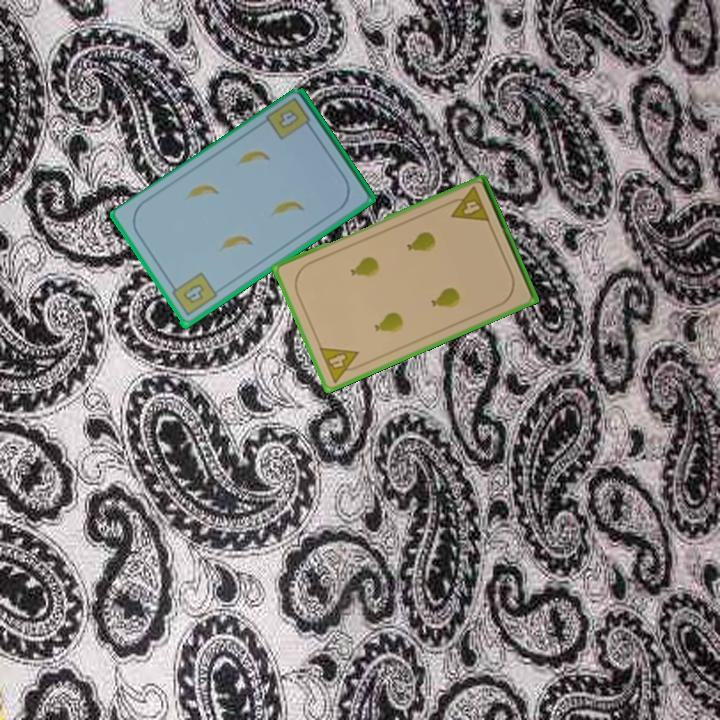4b: (166, 269, 220, 320), (263, 94, 316, 143)
4p: (443, 183, 493, 226), (315, 343, 366, 385)
